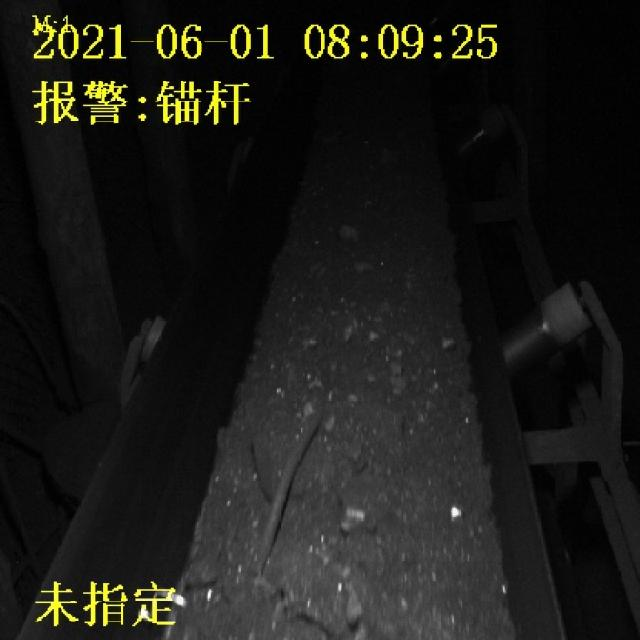bolt: (248, 412, 323, 571)
large_sized_coal: (257, 429, 331, 503), (335, 222, 363, 244)
